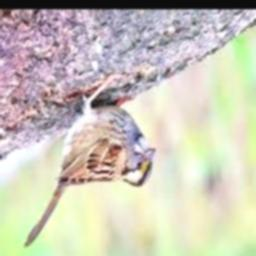Sparrow: (23, 74, 155, 248)
